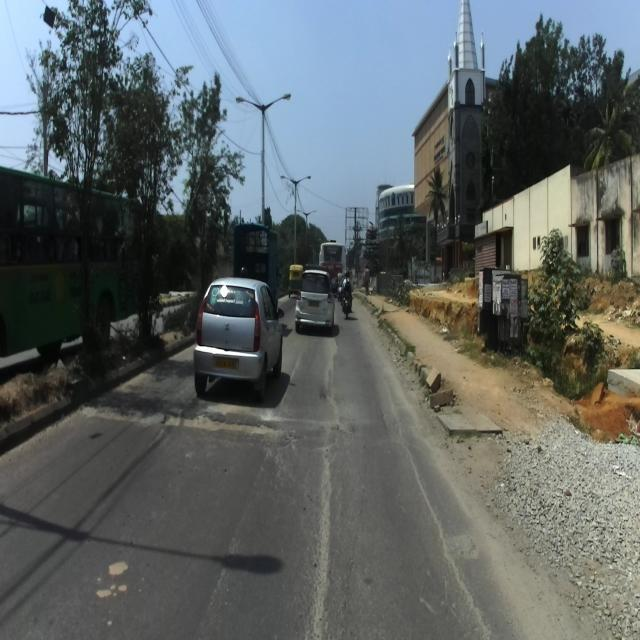Pothole: (79, 400, 282, 439)
